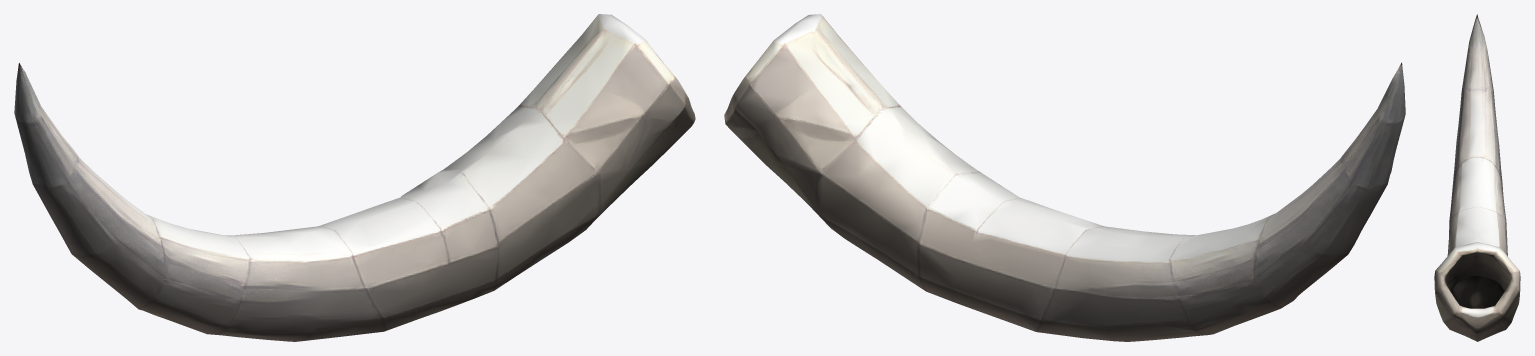
The model's file is tusk.glb.
3 renders of one model, left to right at view 1: azimuth 30°, elevation 25°; view 2: azimuth 150°, elevation 25°; view 3: azimuth 270°, elevation 25°, orthographic. The views are drawn at different scales.
Visible parts, largest first — view 1: world; view 2: world; view 3: world.
Part boxes in pixels (x1,y1,x2,y2): world: [14, 14, 695, 341]; world: [724, 14, 1405, 341]; world: [1434, 14, 1520, 341].
Bounding box in the file's own units: 0.9985 × 0.5117 × 0.1958.
1 material, 1 textured.
